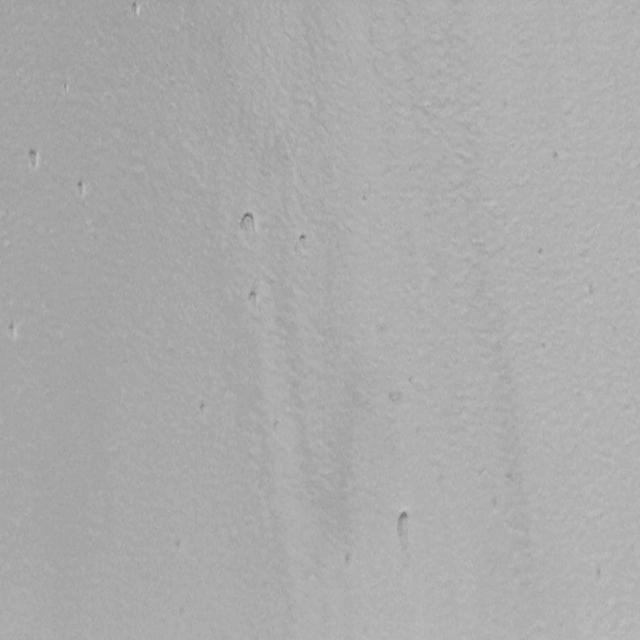pin holes: (390, 509, 414, 548), (237, 210, 262, 240), (386, 386, 409, 406), (25, 148, 43, 172), (293, 231, 312, 253), (195, 396, 213, 419), (126, 0, 146, 20), (341, 549, 358, 571), (74, 180, 91, 200), (6, 322, 21, 343), (246, 289, 261, 308), (538, 240, 548, 260), (60, 80, 72, 96)
